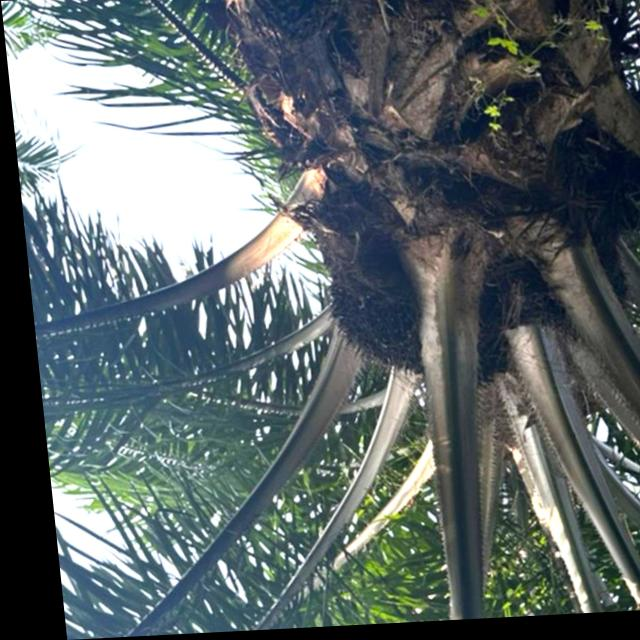unripe: (304, 240, 461, 394)
